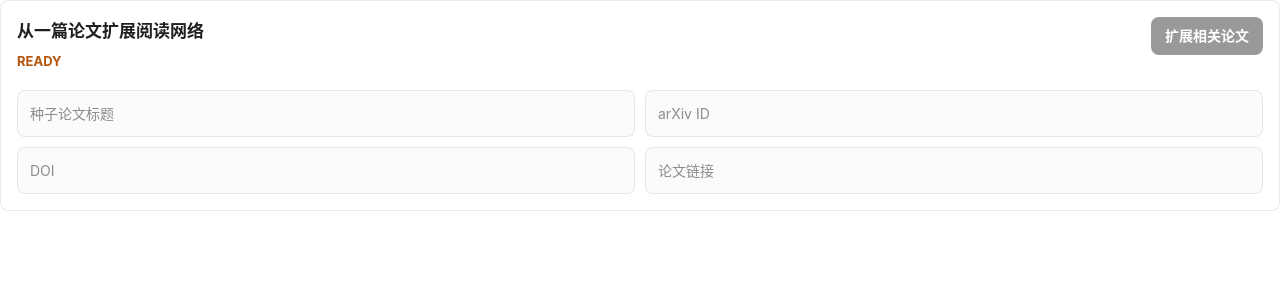
Test case: SeedExpansionPanel › shows EMPTY_RESULT without synthetic papers
Type "No Result Seed" into the field with test id "seed-title-input" at (326, 113), box [17,90,635,137]
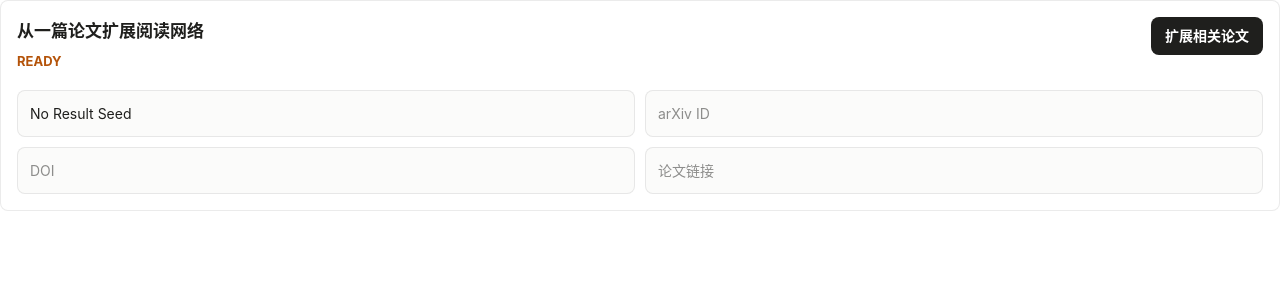
Click the button with test id "seed-expand-button" at (1207, 36), box [1151,17,1263,55]
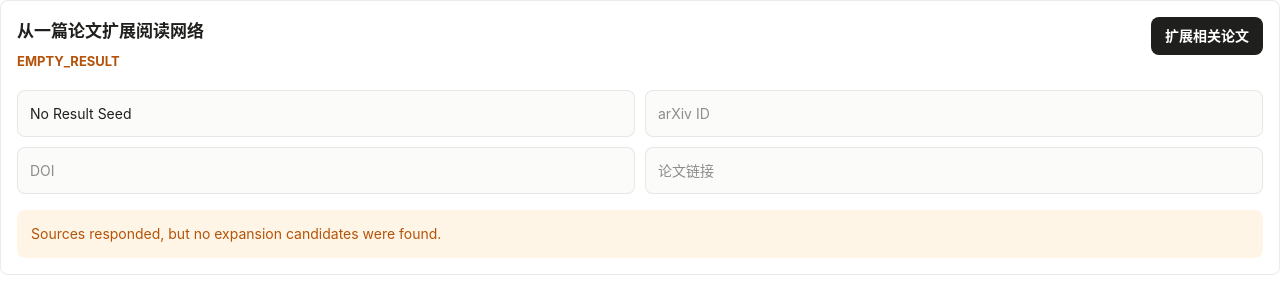
Result: the text with test id "seed-status" reads "EMPTY_RESULT" at [17,53,120,69]
Result: the text with test id "seed-empty" shows "no expansion candidates" at [31,225,441,242]
